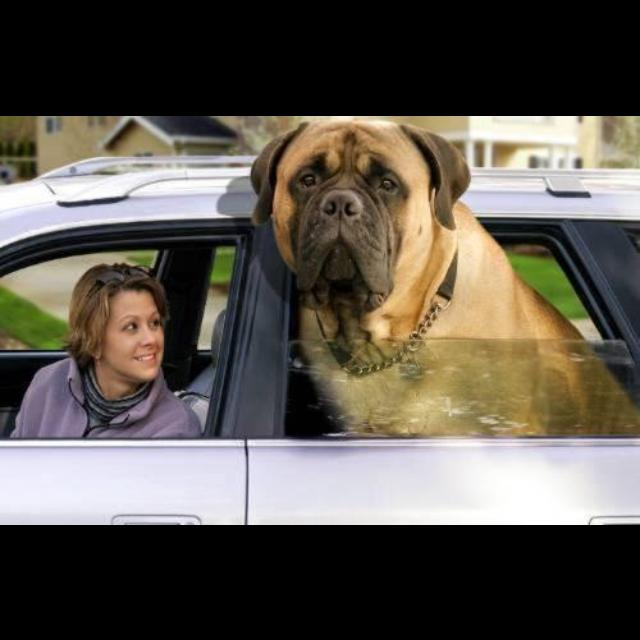bullmastiff: (250, 119, 640, 437)
face: (105, 289, 165, 381)
person: (11, 263, 204, 440)
